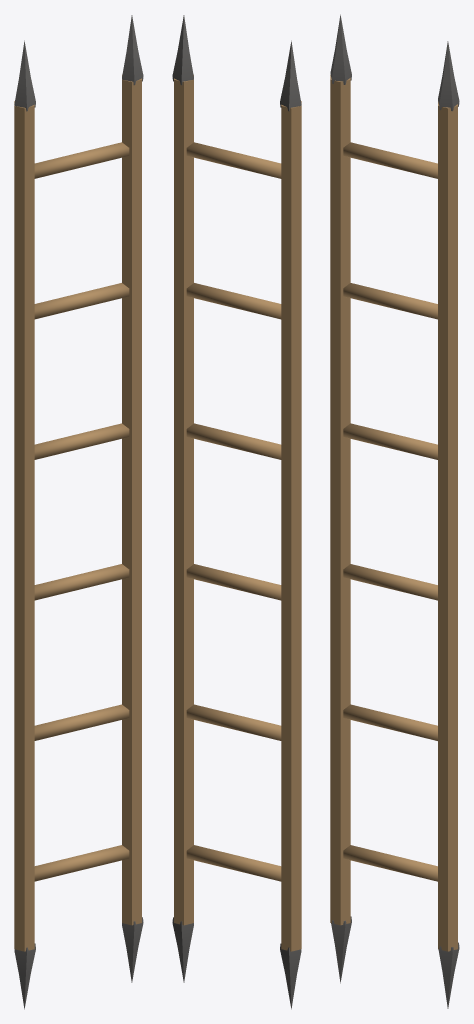
The model's file is gnome-battle-ladder.glb.
3 views of the same model, side by side, from view 1: azimuth 30°, elevation 25°; view 2: azimuth 150°, elevation 25°; view 3: azimuth 330°, elevation 25° (orthographic).
Parts seen in each view (by area): view 1: gnome-battle-ladder; view 2: gnome-battle-ladder; view 3: gnome-battle-ladder.
Boxes of the visible parts, bbox=[...] form: gnome-battle-ladder: bbox=[14, 15, 143, 1009]; gnome-battle-ladder: bbox=[172, 15, 301, 1009]; gnome-battle-ladder: bbox=[330, 14, 459, 1008].
Size of the model in its own units: 0.38 by 2.76 by 0.0571.
